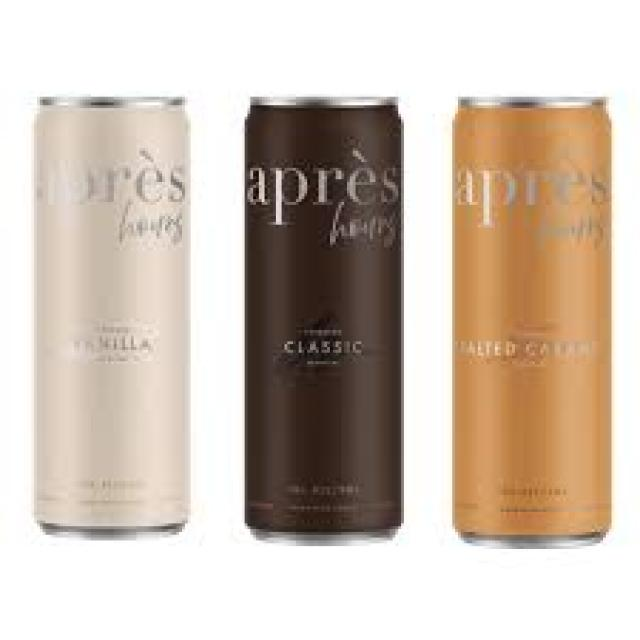Cans: (236, 80, 418, 549), (444, 80, 620, 563), (20, 85, 199, 546)
